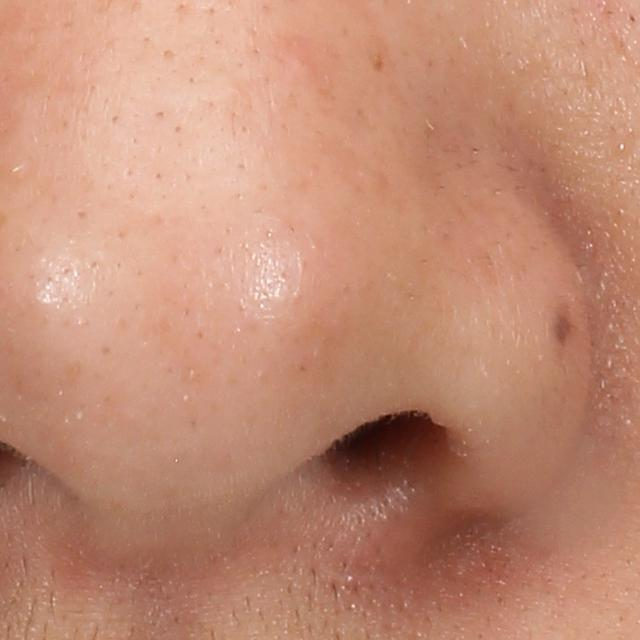nevus: (360, 36, 404, 84), (554, 309, 576, 343)
